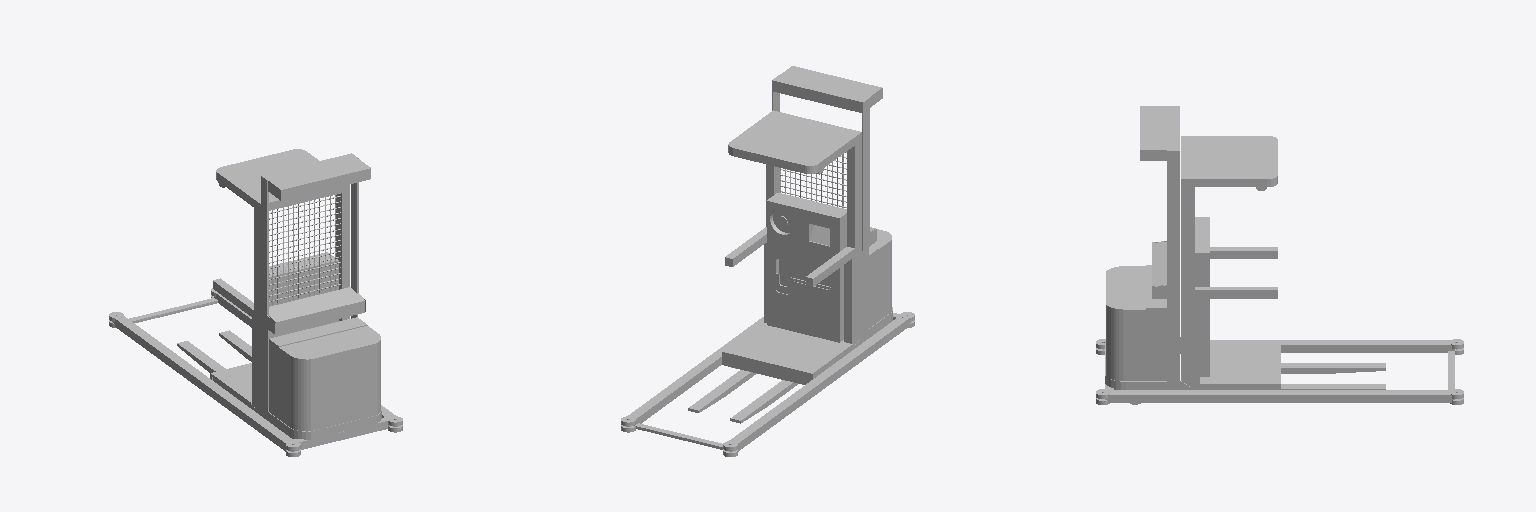
Rendered from chache1.obj.
3 views of the same model, side by side, from view 1: azimuth 30°, elevation 25°; view 2: azimuth 150°, elevation 25°; view 3: azimuth 270°, elevation 25° (orthographic).
Parts seen in each view (by area): view 1: Group14, ManupLiftGroup; view 2: ManupLiftGroup, Group14; view 3: Group14, ManupLiftGroup.
Boxes of the visible parts, x1=… form: Group14: x1=109, y1=153, x2=402, y2=456; ManupLiftGroup: x1=177, y1=149, x2=349, y2=408; ManupLiftGroup: x1=688, y1=110, x2=861, y2=423; Group14: x1=621, y1=66, x2=914, y2=456; Group14: x1=1096, y1=106, x2=1463, y2=404; ManupLiftGroup: x1=1181, y1=136, x2=1385, y2=389.
Bounding box in the file's own units: 1.11 × 2.36 × 3.08.